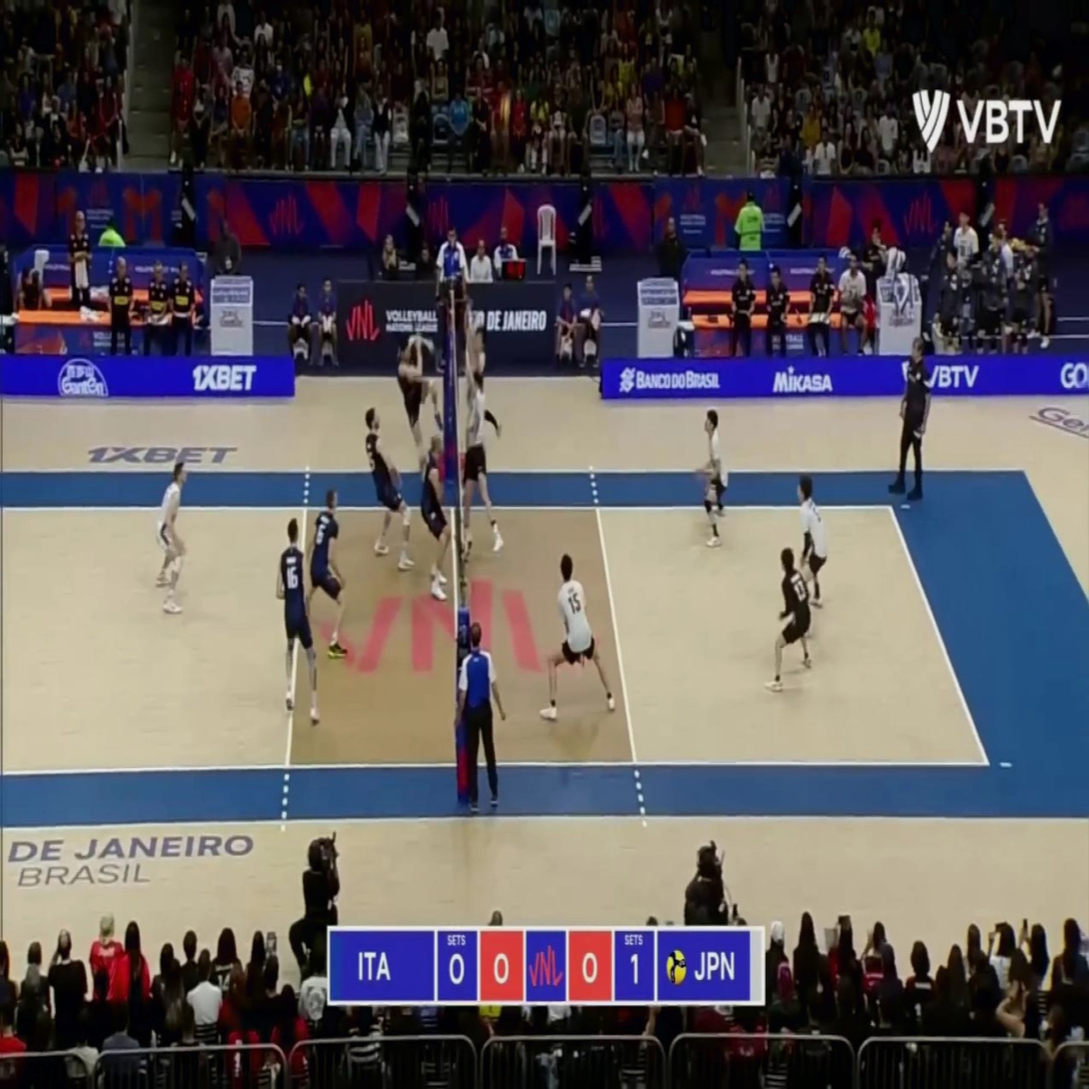ball: (499, 94, 510, 120)
